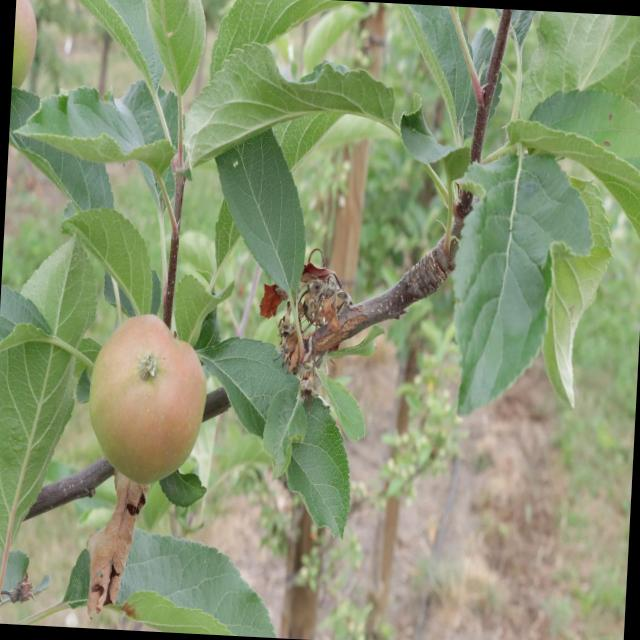-FireBlight-: (257, 256, 355, 392), (80, 460, 146, 612)
